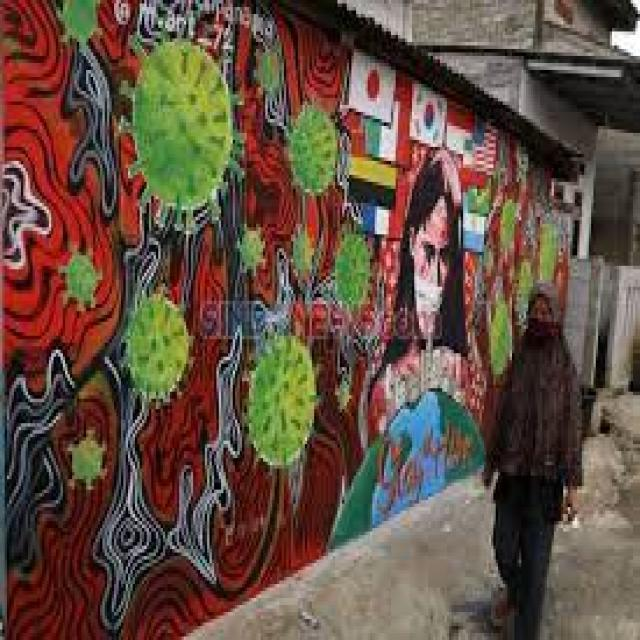-: (0, 0, 577, 633)
